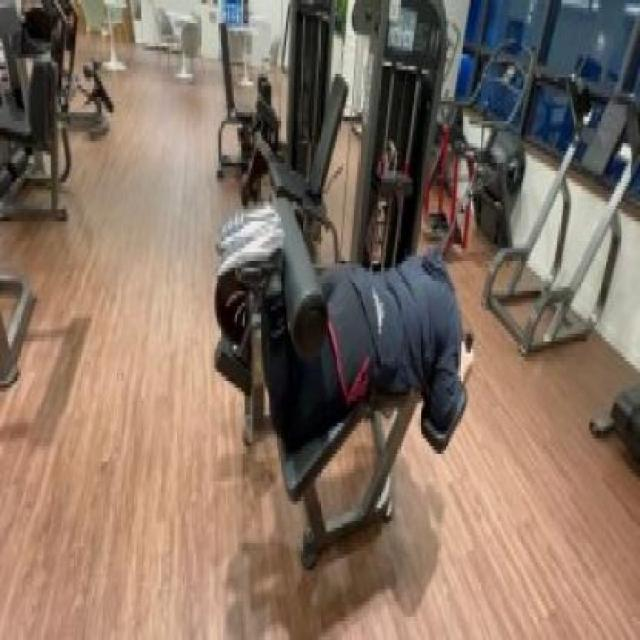reg curl machine: (207, 0, 476, 571)
